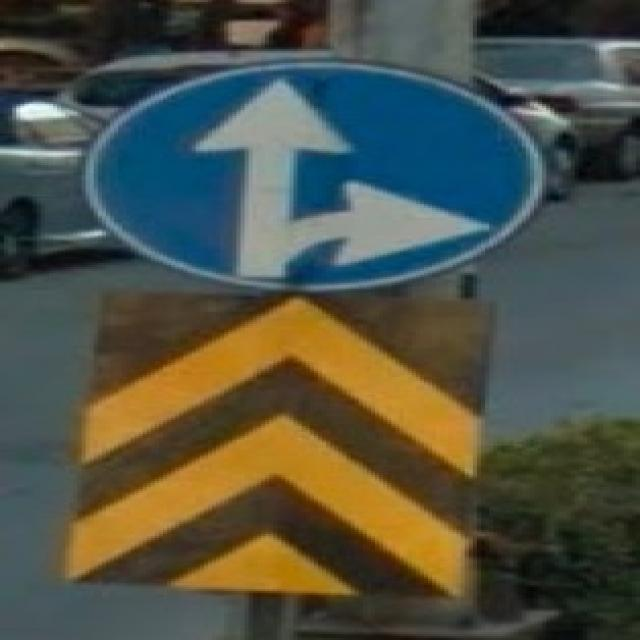Straight or Right: (79, 65, 543, 287)
